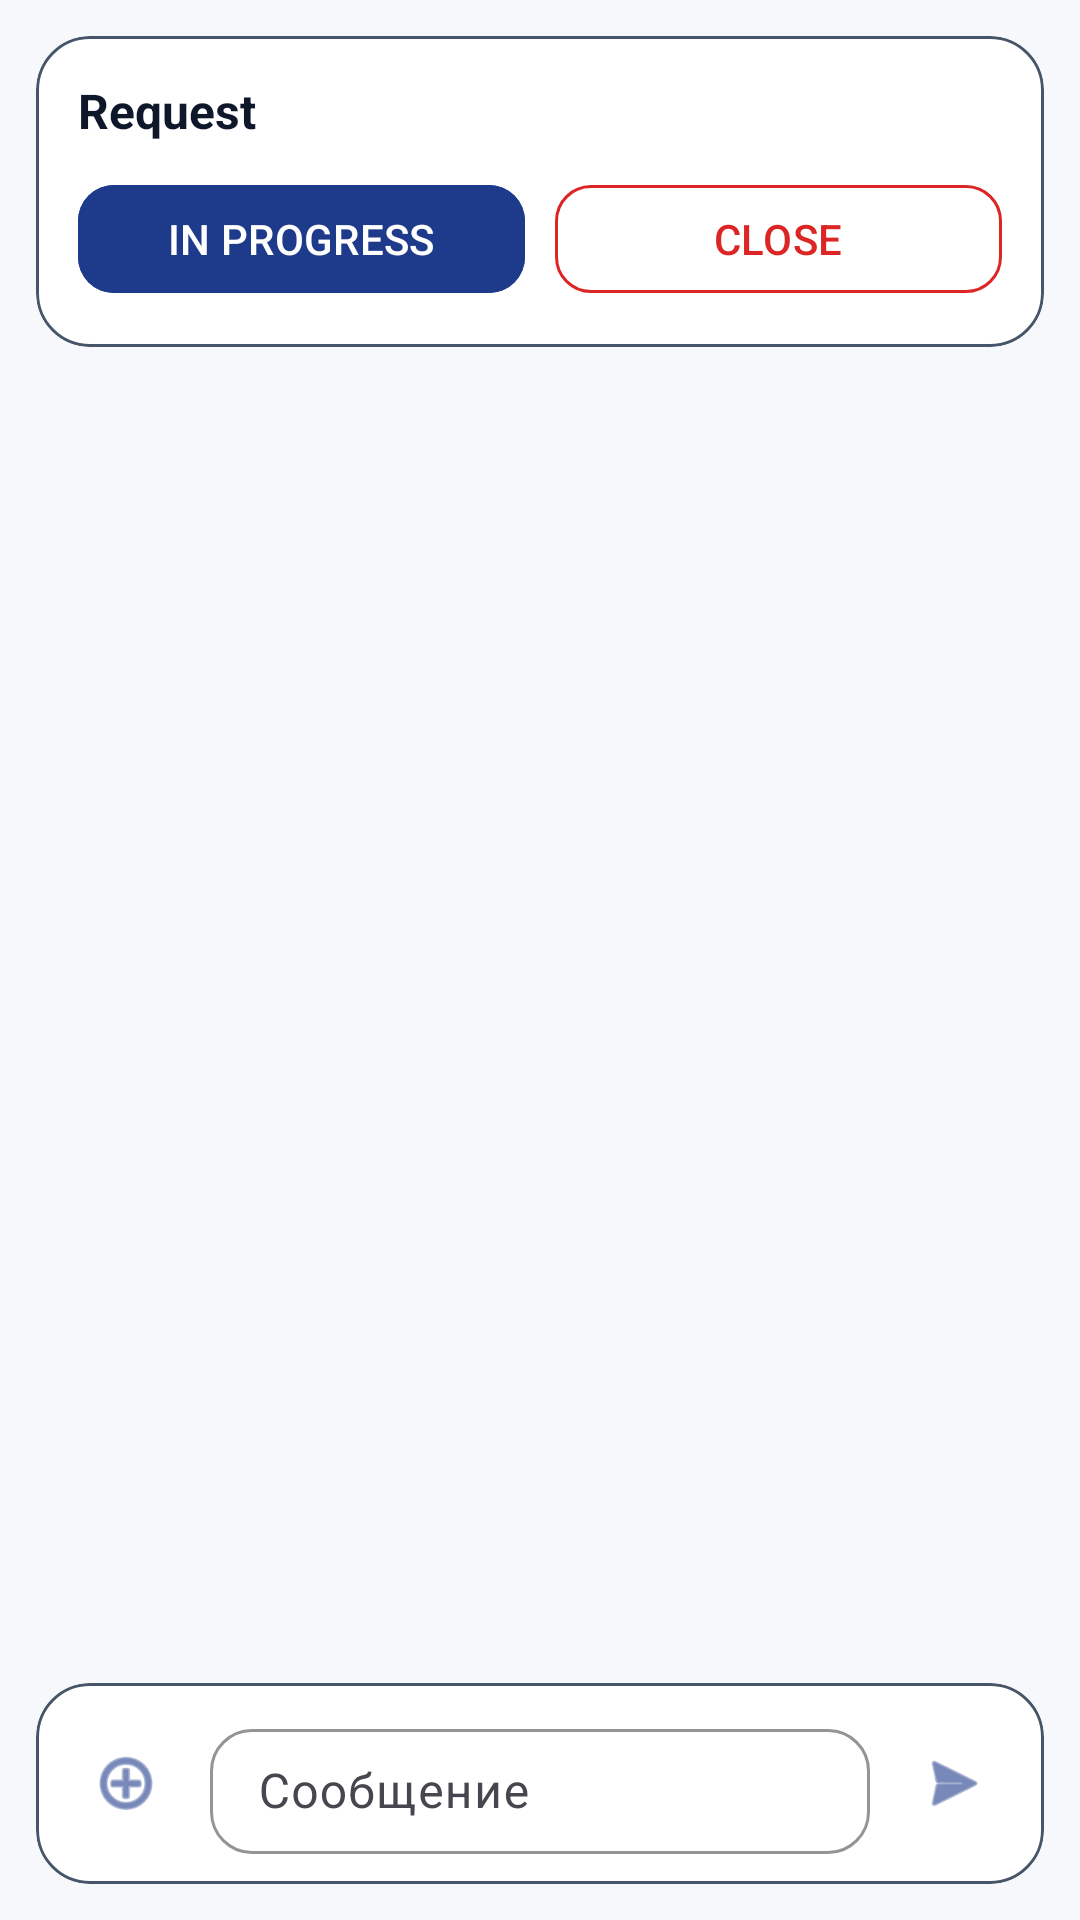

Where icons sit on this 1080 x 1920 app screen, as [x1=x1, y1=y1, x2=x2, y2=y2]:
attach: [x1=99, y1=1757, x2=153, y2=1810]
send: [x1=932, y1=1761, x2=978, y2=1806]
